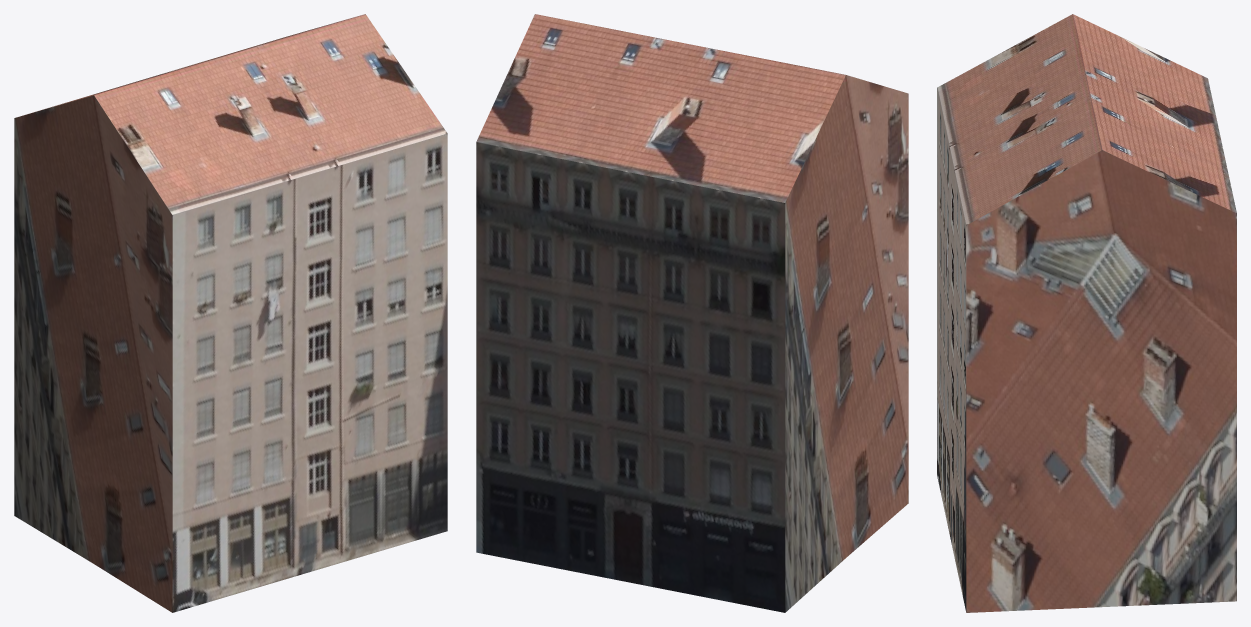
3 renders of one model, left to right at view 1: azimuth 30°, elevation 25°; view 2: azimuth 150°, elevation 25°; view 3: azimuth 270°, elevation 25°, orthographic. The views are drawn at different scales.
Parts seen in each view (by area): view 1: Z_UP; view 2: Z_UP; view 3: Z_UP.
Part boxes in pixels (<box>): Z_UP: <box>14,14,447,612</box>; Z_UP: <box>476,14,908,612</box>; Z_UP: <box>937,14,1236,612</box>.
Size of the model in its own units: 19.28 by 27.94 by 16.62.
2 materials, 1 textured.
